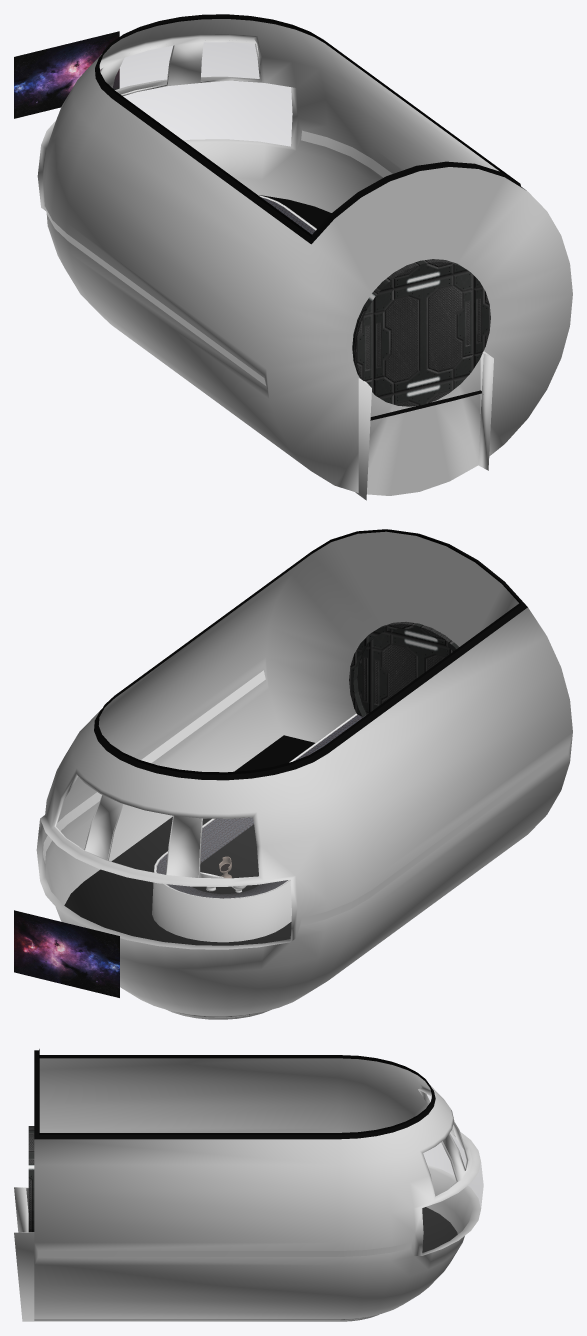
The model's file is ship3.glb.
3 views of the same model, one above another, from view 1: azimuth 30°, elevation 25°; view 2: azimuth 150°, elevation 25°; view 3: azimuth 270°, elevation 25° (orthographic). The views are drawn at different scales.
Parts seen in each view (by area): view 1: Sci_Fi_Space_Station; view 2: Sci_Fi_Space_Station; view 3: Sci_Fi_Space_Station.
Part boxes in pixels (x1,y1,x2,y2): Sci_Fi_Space_Station: (14, 14, 572, 500); Sci_Fi_Space_Station: (14, 529, 572, 1019); Sci_Fi_Space_Station: (14, 1049, 483, 1321).
Size of the model in its own units: 67.7 by 68.29 by 140.
12 materials, 4 textured.
